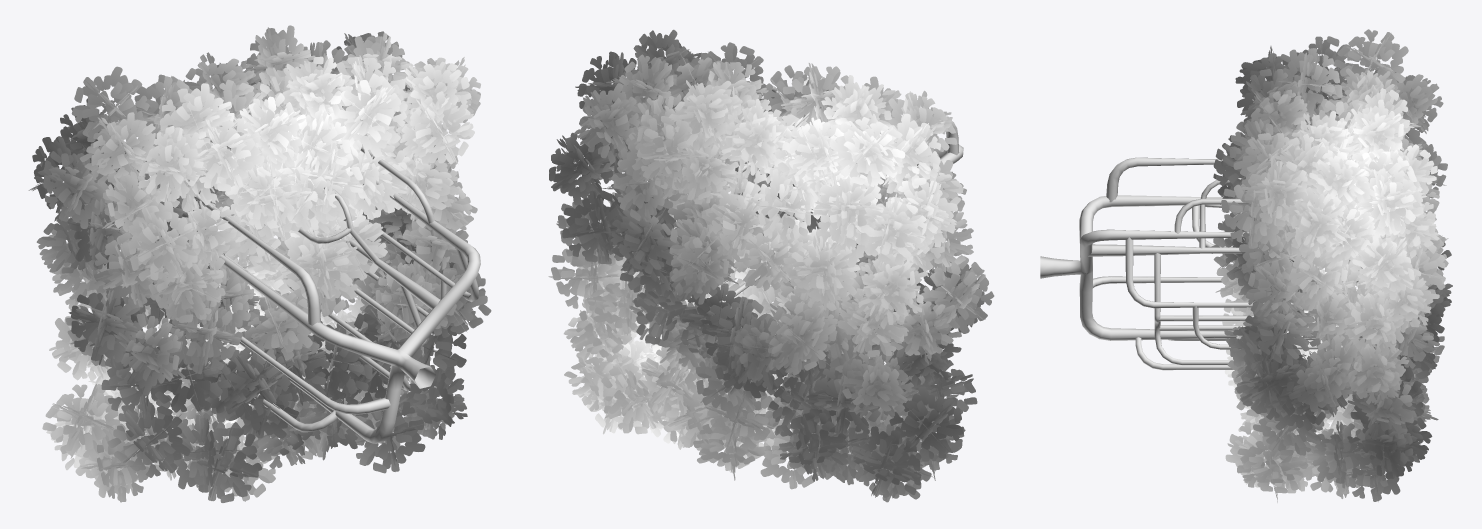
The model's file is StylisedTree7.fbx.
3 views of the same model, side by side, from view 1: azimuth 30°, elevation 25°; view 2: azimuth 150°, elevation 25°; view 3: azimuth 270°, elevation 25° (orthographic). The views are drawn at different scales.
Parts seen in each view (by area): view 1: Leaf3Plane.003; view 2: Leaf3Plane.003; view 3: Leaf3Plane.003.
Boxes of the visible parts, x1,y1,x2,y2 form: Leaf3Plane.003: [28, 25, 491, 502]; Leaf3Plane.003: [548, 29, 994, 502]; Leaf3Plane.003: [1040, 29, 1452, 502].
Bounding box in the file's own units: 756 × 728 × 702.
